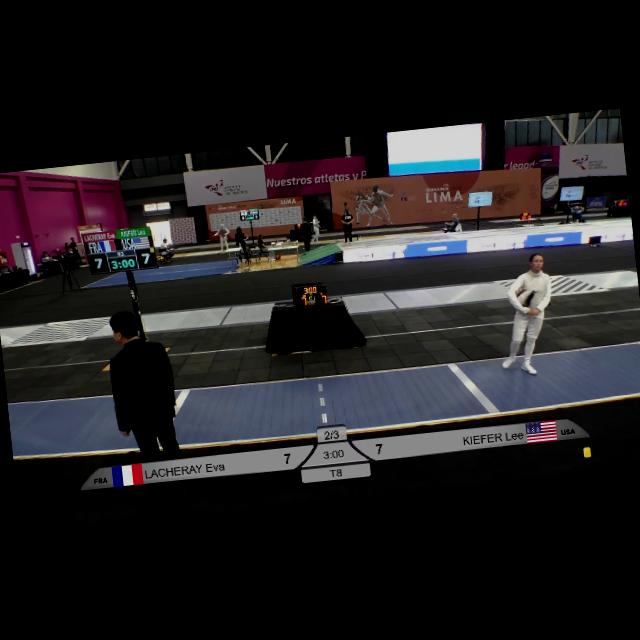blade: (526, 303, 585, 360)
